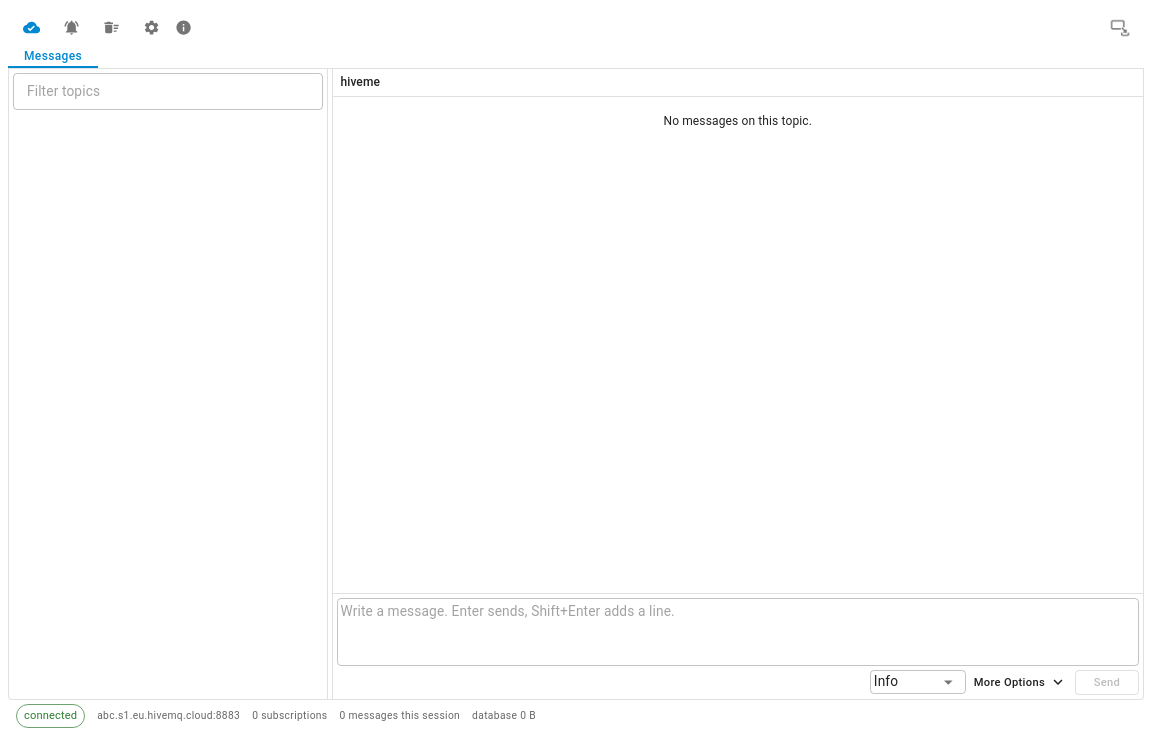
the application window › shows the localized error when the desktop cannot provide a tray
Step 1. Click the button named "Minimize to system tray" → coordinates (1120, 28), box top-left (1106, 14), bottom-right (1134, 42)
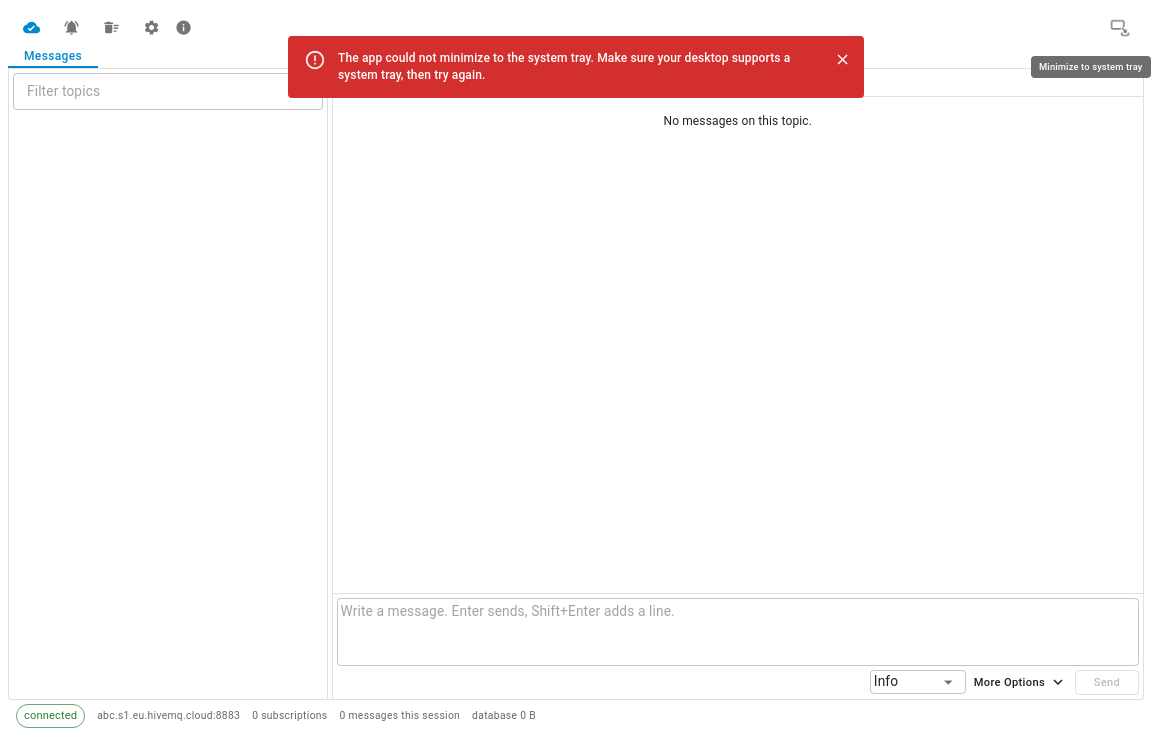
Check: the tab "Messages" is shown, box top-left (24, 48), bottom-right (82, 62)
Check: the text "The app could not minimize to the system tray. Make sure your desktop supports a system tray, then try again." is shown, box top-left (338, 51), bottom-right (790, 82)
